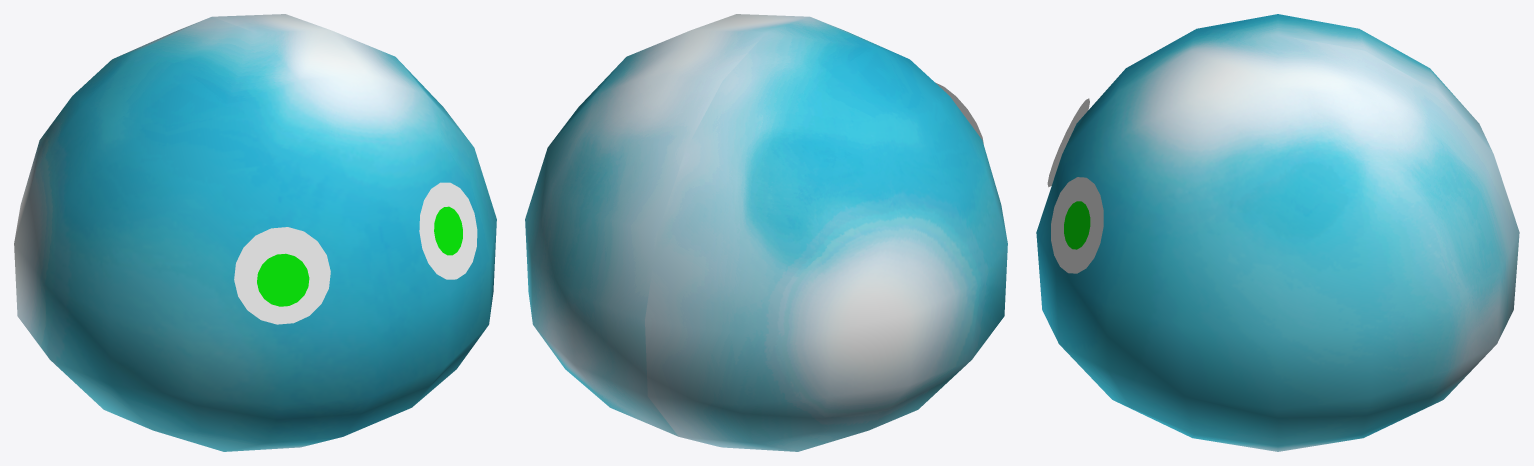
3 views of the same model, side by side, from view 1: azimuth 30°, elevation 25°; view 2: azimuth 150°, elevation 25°; view 3: azimuth 270°, elevation 25° (orthographic).
Parts seen in each view (by area): view 1: Slime_body00; view 2: Slime_body00; view 3: Slime_body00.
Boxes of the visible parts, <box> form: Slime_body00: <box>14,14,496,451</box>; Slime_body00: <box>525,14,1007,451</box>; Slime_body00: <box>1036,14,1519,451</box>.
Size of the model in its own units: 9.74 by 8.78 by 9.74.
